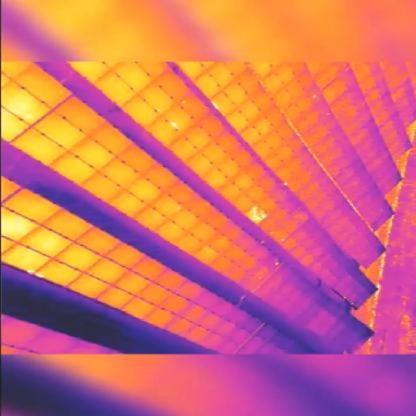anomaly: (247, 205, 269, 224)
